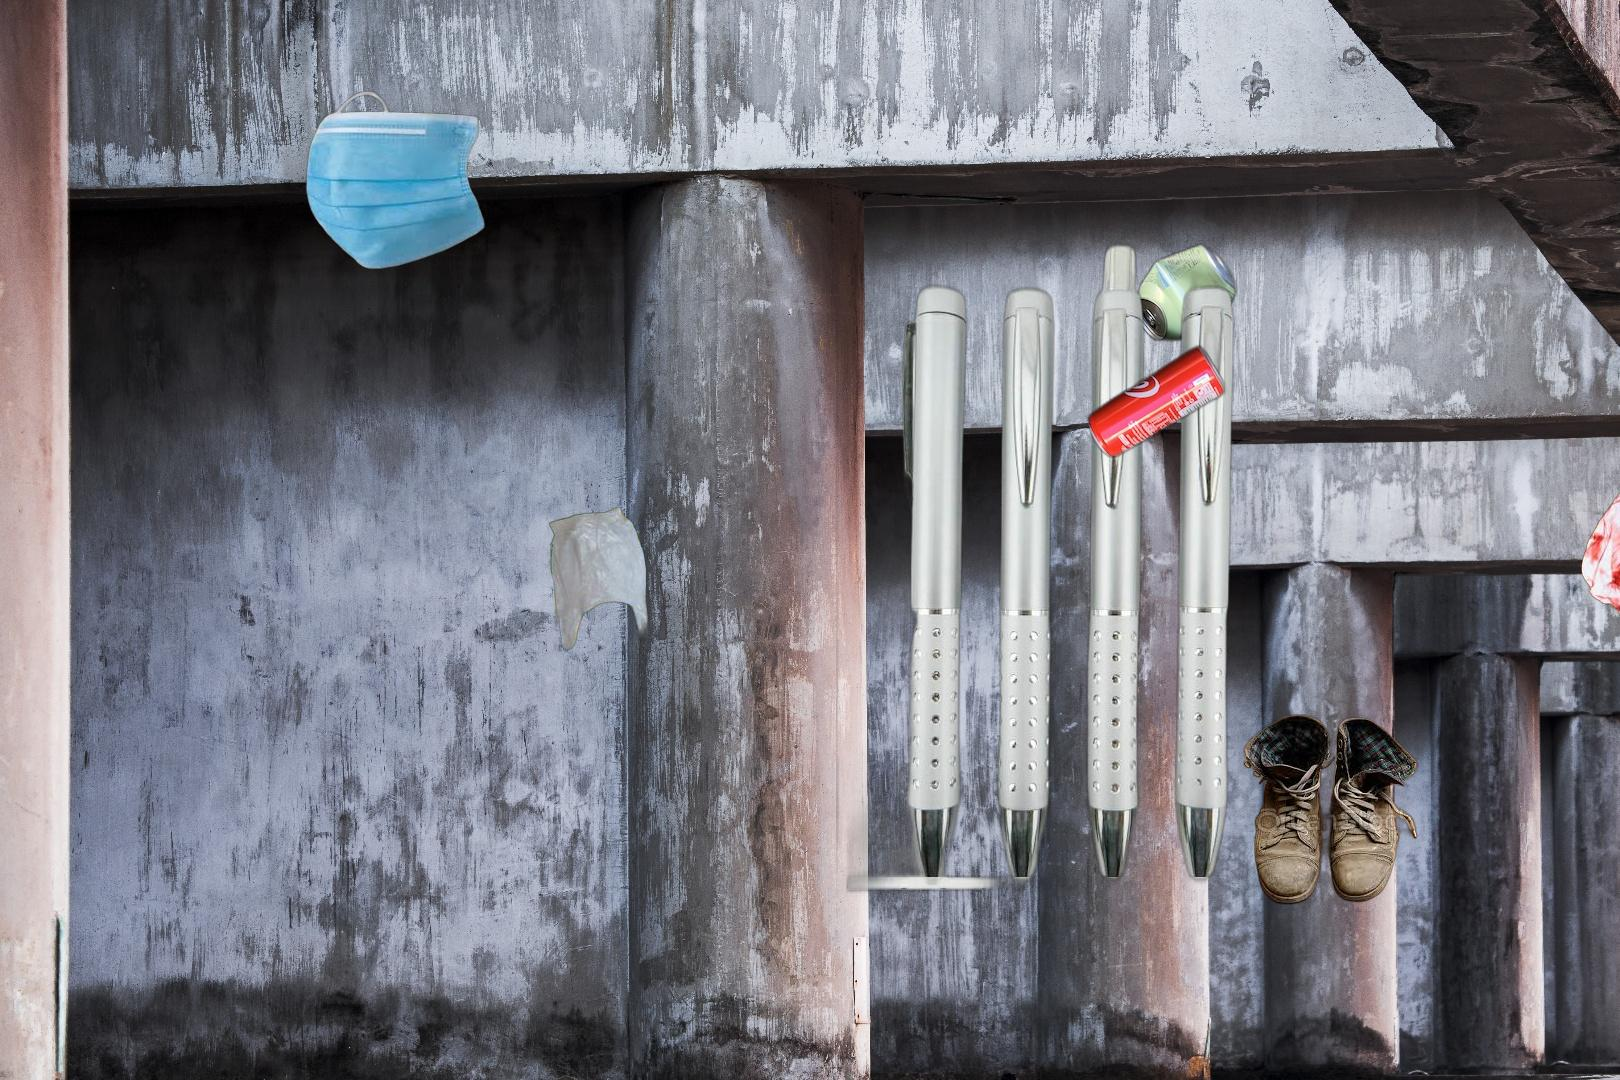metal-cans: (890, 204, 1264, 733), (1084, 339, 1229, 464)
penholder: (837, 223, 1237, 939)
plastic-bag: (546, 504, 656, 657), (1578, 475, 1620, 687)
shoes: (1243, 712, 1421, 906)
trash: (303, 88, 520, 272)
